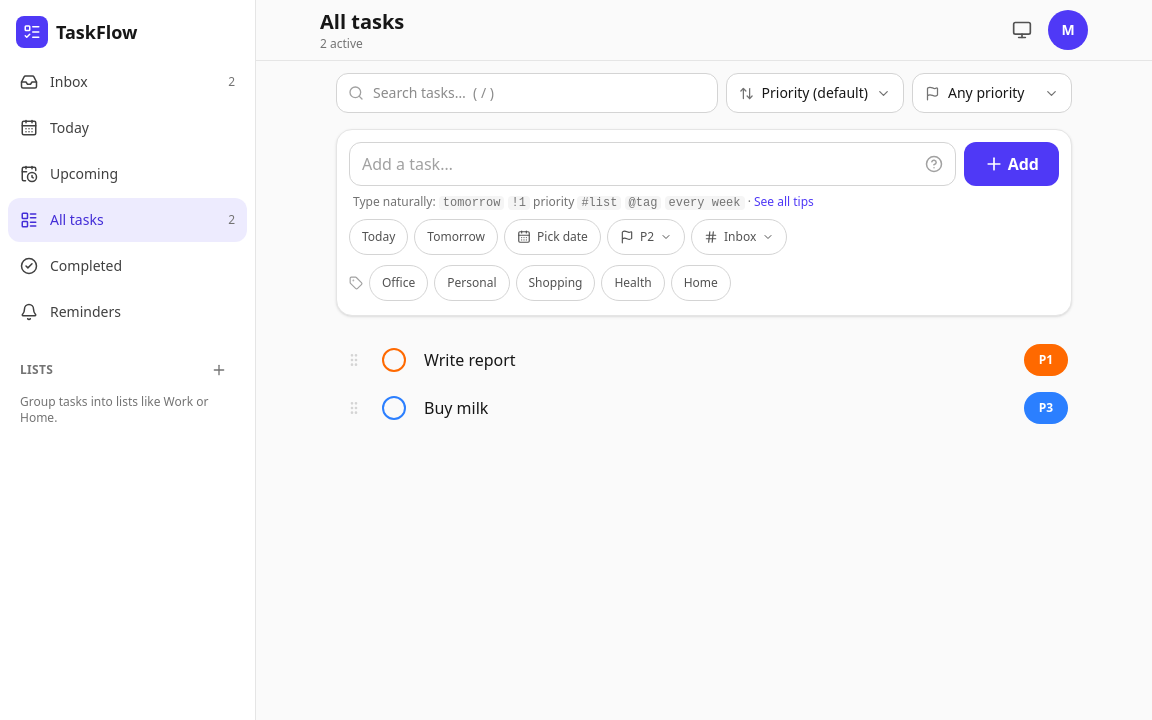
Test: TodoApp › reverts the toggle and shows a toast when the server rejects
The width and height of the screenshot is (1152, 720).
Click the checkbox named "Mark as done: Write report" at (394,360), box [382, 348, 406, 372]
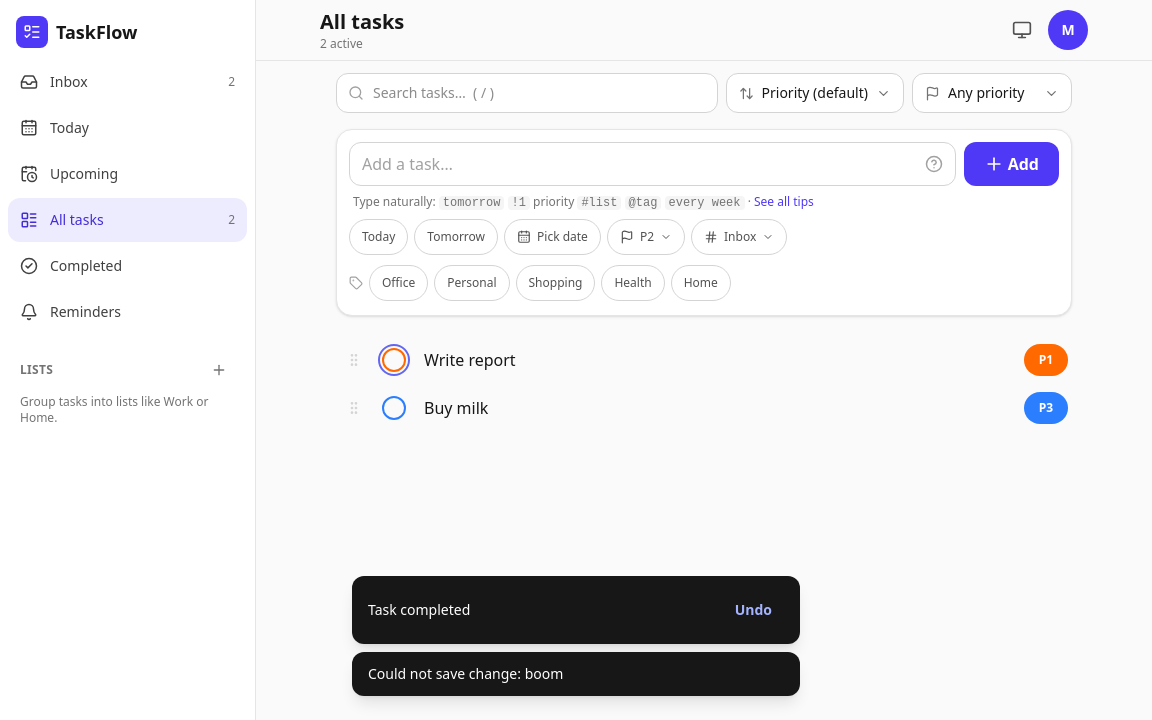
Expected: the text "Could not save change: boom" is shown, [368, 664, 563, 684]
